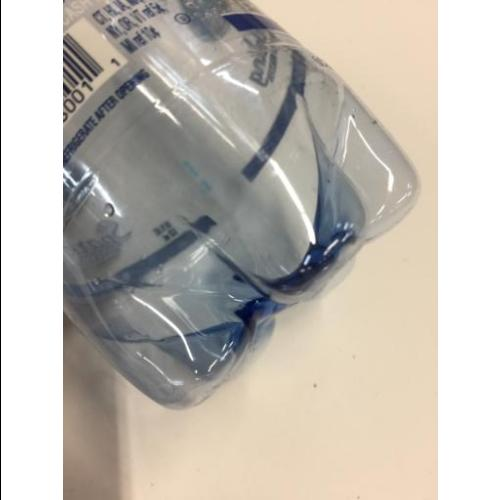plastic: (63, 0, 422, 408)
